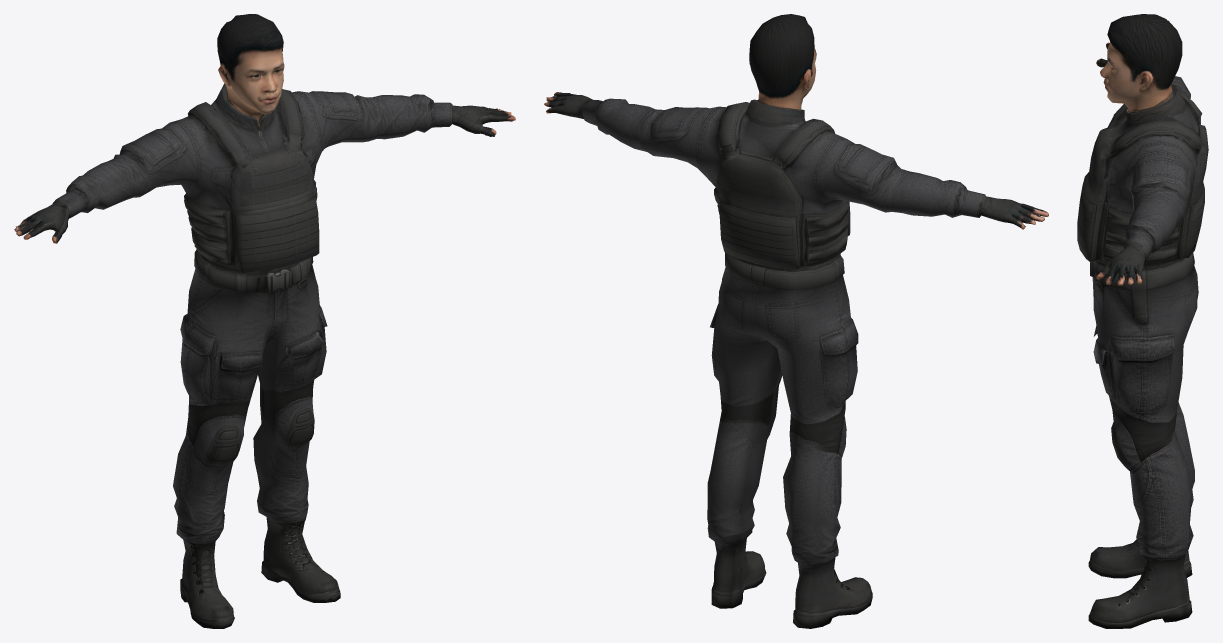
The model's file is tezhongboy.glb.
3 views of the same model, side by side, from view 1: azimuth 30°, elevation 25°; view 2: azimuth 150°, elevation 25°; view 3: azimuth 270°, elevation 25° (orthographic).
Visible parts, largest first — view 1: tripo_node_c876f450-0c43-48bd-9135-4b263c3166d5; view 2: tripo_node_c876f450-0c43-48bd-9135-4b263c3166d5; view 3: tripo_node_c876f450-0c43-48bd-9135-4b263c3166d5.
Boxes of the visible parts, left/top/right/bottom form: tripo_node_c876f450-0c43-48bd-9135-4b263c3166d5: left=14, top=14, right=515, bottom=628; tripo_node_c876f450-0c43-48bd-9135-4b263c3166d5: left=544, top=14, right=1048, bottom=628; tripo_node_c876f450-0c43-48bd-9135-4b263c3166d5: left=1077, top=14, right=1208, bottom=628.
Size of the model in its own units: 0.8926 by 0.998 by 0.2051.
1 material, 1 textured.
